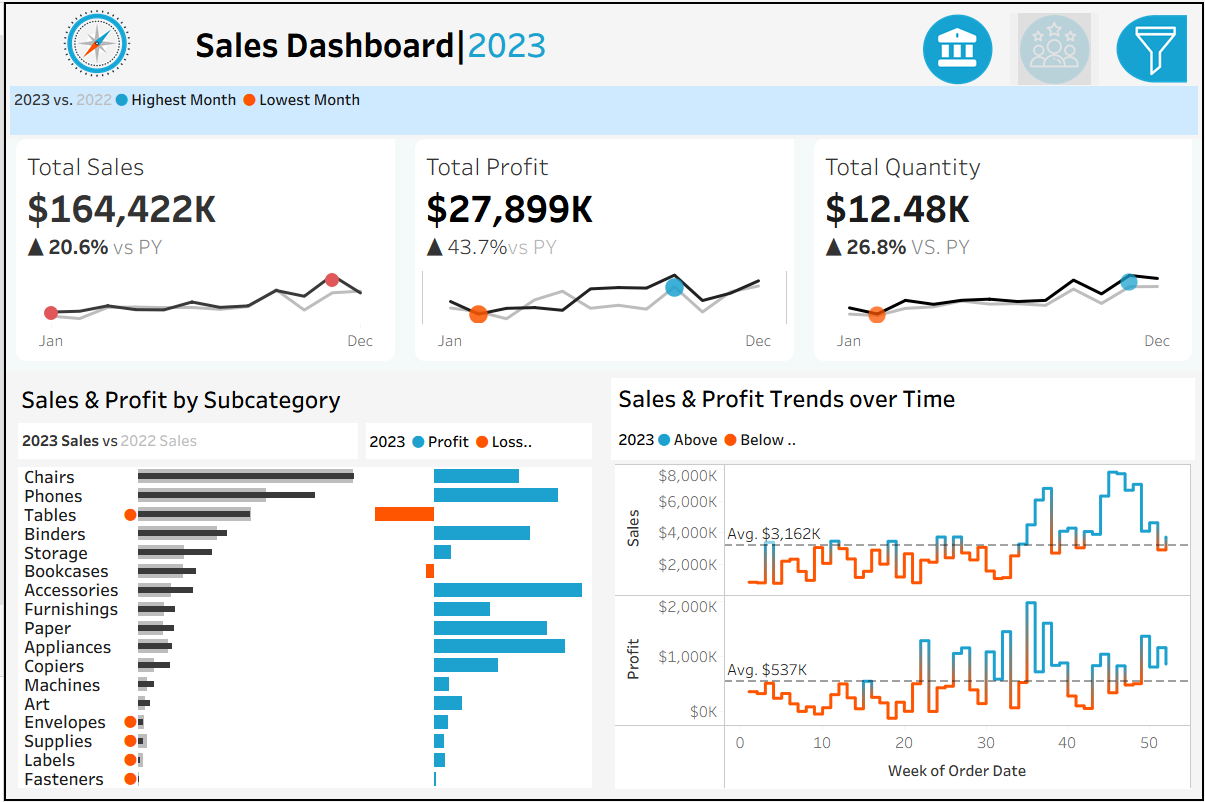

The dashboard page shown, as its layout file describes it:
{"tool":"tableau","page":{"name":"Sales Dashboard","canvas":[1200,800],"ordinal":0},"visuals":[{"type":"image","param":"Image/Icon - Logo.png","box":[2,2,182,78]},{"type":"text","box":[184,2,1014,78]},{"type":"dashboard-object","box":[905,7,97,80]},{"type":"dashboard-object","box":[1002,7,97,80]},{"type":"dashboard-object","box":[1099,7,96,80]},{"type":"text","box":[989,38,199,40]},{"type":"worksheet","title":"Legend KPI ","mark":"Automatic","box":[2,80,1196,57]},{"type":"parameter","param":"[Parameters].[Parameter 3072914408464387]","box":[989,118,199,56]},{"type":"worksheet","title":"KPI Sales","mark":"Automatic","rows":["Calculation_3072914497331205"],"cols":["Order Date"],"box":[2,137,399,232]},{"type":"worksheet","title":"KPI Profit","mark":"Automatic","rows":["Calculation_3072914916675607"],"cols":["Order Date"],"box":[401,137,399,232]},{"type":"worksheet","title":"KPI Quantity","mark":"Automatic","rows":["Calculation_3072914995789856"],"cols":["Order Date"],"box":[800,137,398,232]},{"type":"blank","box":[989,174,199,32]},{"type":"text","box":[989,206,199,33]},{"type":"filter","title":"KPI Sales","param":"[federated.0pxpqc31ojw76l17bj3020175k7k].[none:Category:nk]","box":[989,239,199,61]},{"type":"filter","title":"KPI Sales","param":"[federated.0pxpqc31ojw76l17bj3020175k7k].[none:Sub-Category:nk]","box":[989,300,199,79]},{"type":"text","box":[607,376,584,40]},{"type":"text","box":[10,377,582,40]},{"type":"blank","box":[989,379,199,31]},{"type":"text","box":[989,410,199,33]},{"type":"text","box":[607,416,584,42.4]},{"type":"worksheet","title":"Legend of Subcategory Chart","mark":"Automatic","box":[10,417,348,44]},{"type":"text","box":[358,417,234,44]},{"type":"filter","title":"KPI Sales","param":"[federated.0pxpqc31ojw76l17bj3020175k7k].[none:Region:nk]","box":[989,443,199,61]},{"type":"worksheet","title":"Weekly Trends","mark":"Automatic","rows":["Calculation_3072914406297600","Calculation_3072914877870097"],"cols":["Order Date"],"box":[607,458.4,584,332.6]},{"type":"worksheet","title":"Subcategory comparison","mark":"Bar","rows":["Sub-Category","Calculation_3072915271082021"],"cols":["CY Sales (copy)_3072914407223297","Calculation_3072914406297600","Calculation_3072914877870097"],"box":[10,461,582,329]},{"type":"filter","title":"KPI Sales","param":"[federated.0pxpqc31ojw76l17bj3020175k7k].[none:State:nk]","box":[989,504,199,61]},{"type":"filter","title":"KPI Sales","param":"[federated.0pxpqc31ojw76l17bj3020175k7k].[none:City:nk]","box":[989,565,199,61]}]}

Visuals, with their boxes in screenshot pixels (x1, y1, x2, y2), scaled from the page's 1200x800 canvas onto the 1205x802 screenshot:
image: box(2, 2, 185, 80)
text: box(185, 2, 1203, 80)
dashboard-object: box(909, 7, 1006, 87)
dashboard-object: box(1006, 7, 1104, 87)
dashboard-object: box(1104, 7, 1200, 87)
text: box(993, 38, 1193, 78)
"Legend KPI " worksheet: box(2, 80, 1203, 137)
parameter: box(993, 118, 1193, 174)
"KPI Sales" worksheet: box(2, 137, 403, 370)
"KPI Profit" worksheet: box(403, 137, 803, 370)
"KPI Quantity" worksheet: box(803, 137, 1203, 370)
blank: box(993, 174, 1193, 207)
text: box(993, 207, 1193, 240)
"KPI Sales" filter: box(993, 240, 1193, 301)
"KPI Sales" filter: box(993, 301, 1193, 380)
text: box(610, 377, 1196, 417)
text: box(10, 378, 594, 418)
blank: box(993, 380, 1193, 411)
text: box(993, 411, 1193, 444)
text: box(610, 417, 1196, 460)
"Legend of Subcategory Chart" worksheet: box(10, 418, 359, 462)
text: box(359, 418, 594, 462)
"KPI Sales" filter: box(993, 444, 1193, 505)
"Weekly Trends" worksheet: box(610, 460, 1196, 793)
"Subcategory comparison" worksheet (Bar marks): box(10, 462, 594, 792)
"KPI Sales" filter: box(993, 505, 1193, 566)
"KPI Sales" filter: box(993, 566, 1193, 628)
